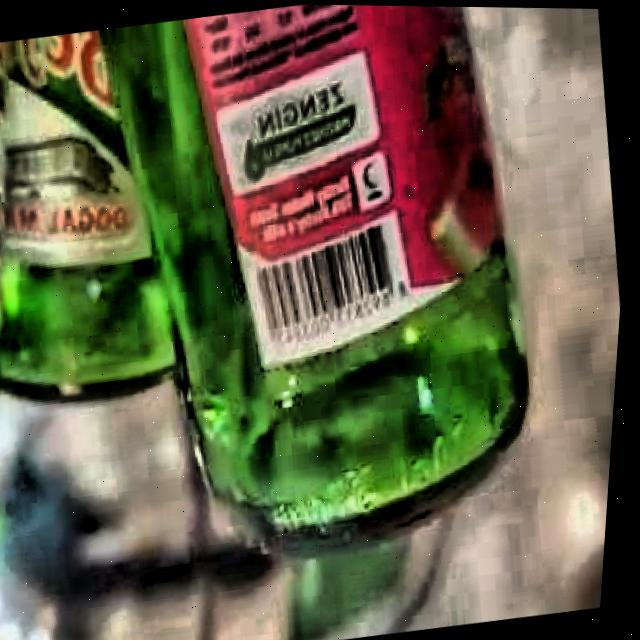glass: (0, 3, 533, 556)
